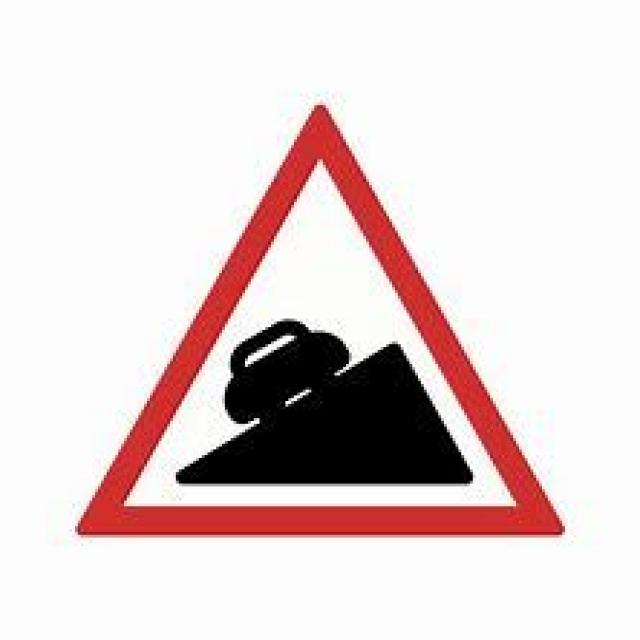STEEP_ASCENT: (72, 100, 562, 538)
